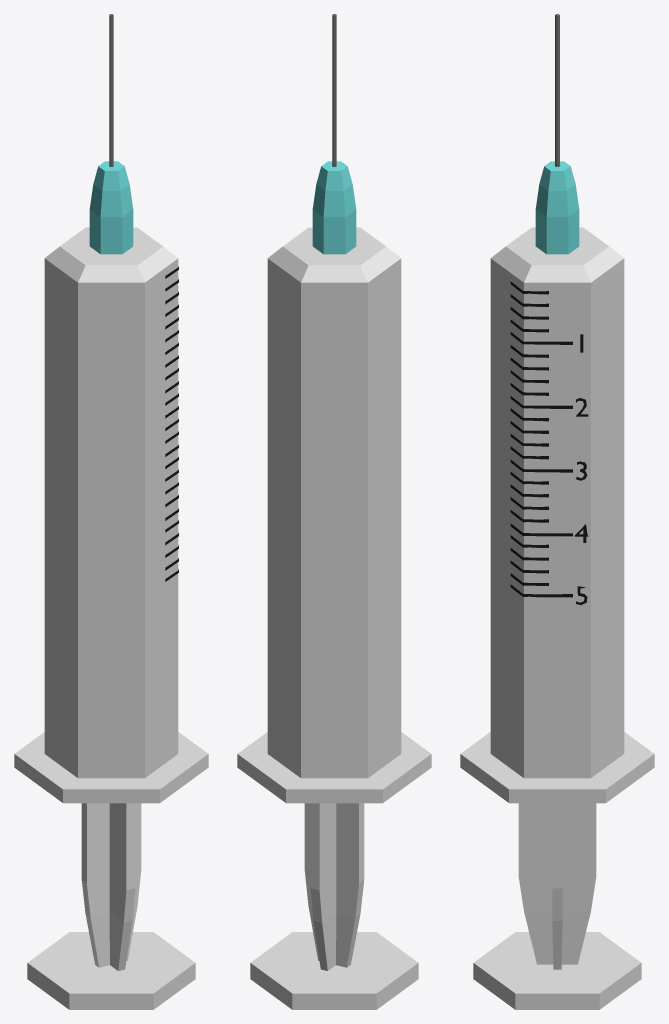
The model's file is syringe.glb.
3 renders of one model, left to right at view 1: azimuth 30°, elevation 25°; view 2: azimuth 150°, elevation 25°; view 3: azimuth 270°, elevation 25°, orthographic.
Visible parts, largest first — view 1: Barrel_Cylinder.001; view 2: Barrel_Cylinder.001; view 3: Barrel_Cylinder.001.
Part boxes in pixels (left/top/right/bottom): Barrel_Cylinder.001: left=14, top=14, right=208, bottom=1009; Barrel_Cylinder.001: left=237, top=14, right=431, bottom=1009; Barrel_Cylinder.001: left=460, top=14, right=654, bottom=1009.
Bounding box in the file's own units: 0.2964 × 1.88 × 0.3422.
